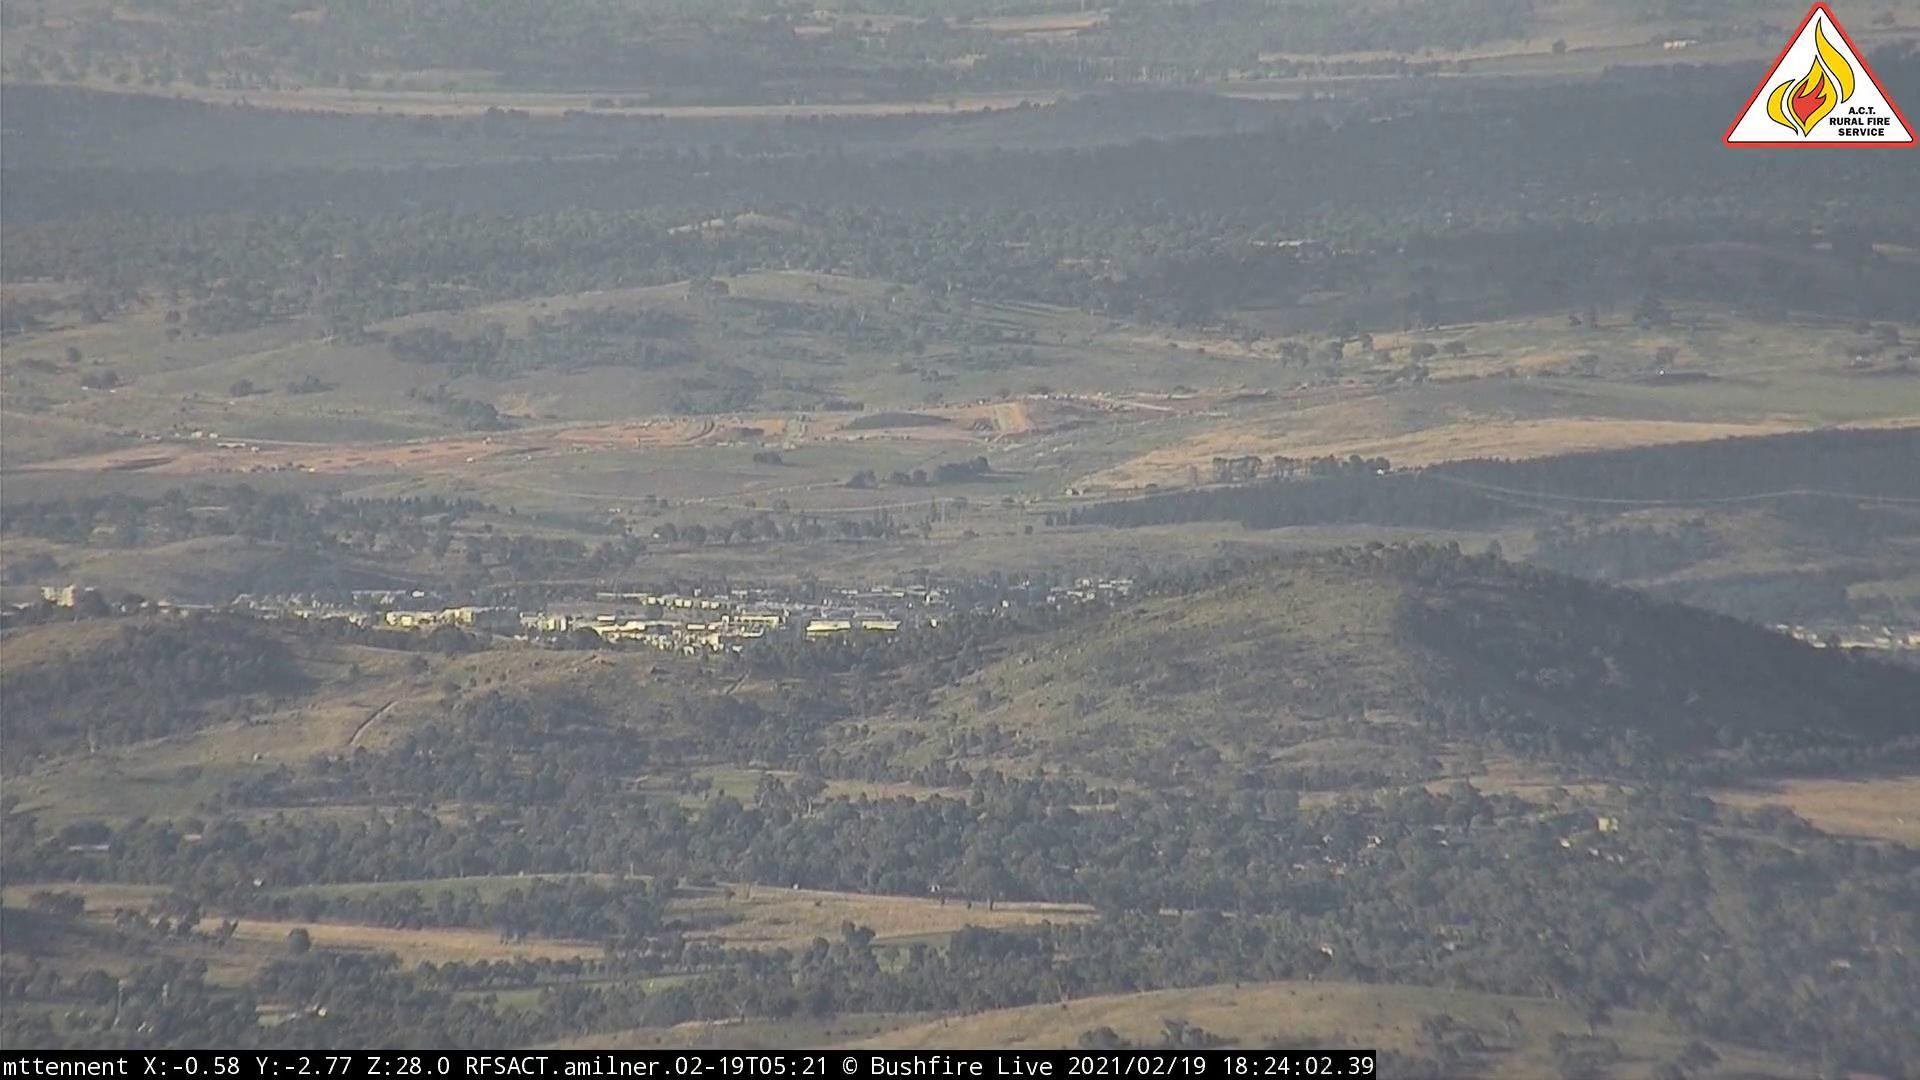Smoke: (636, 520, 675, 549)
